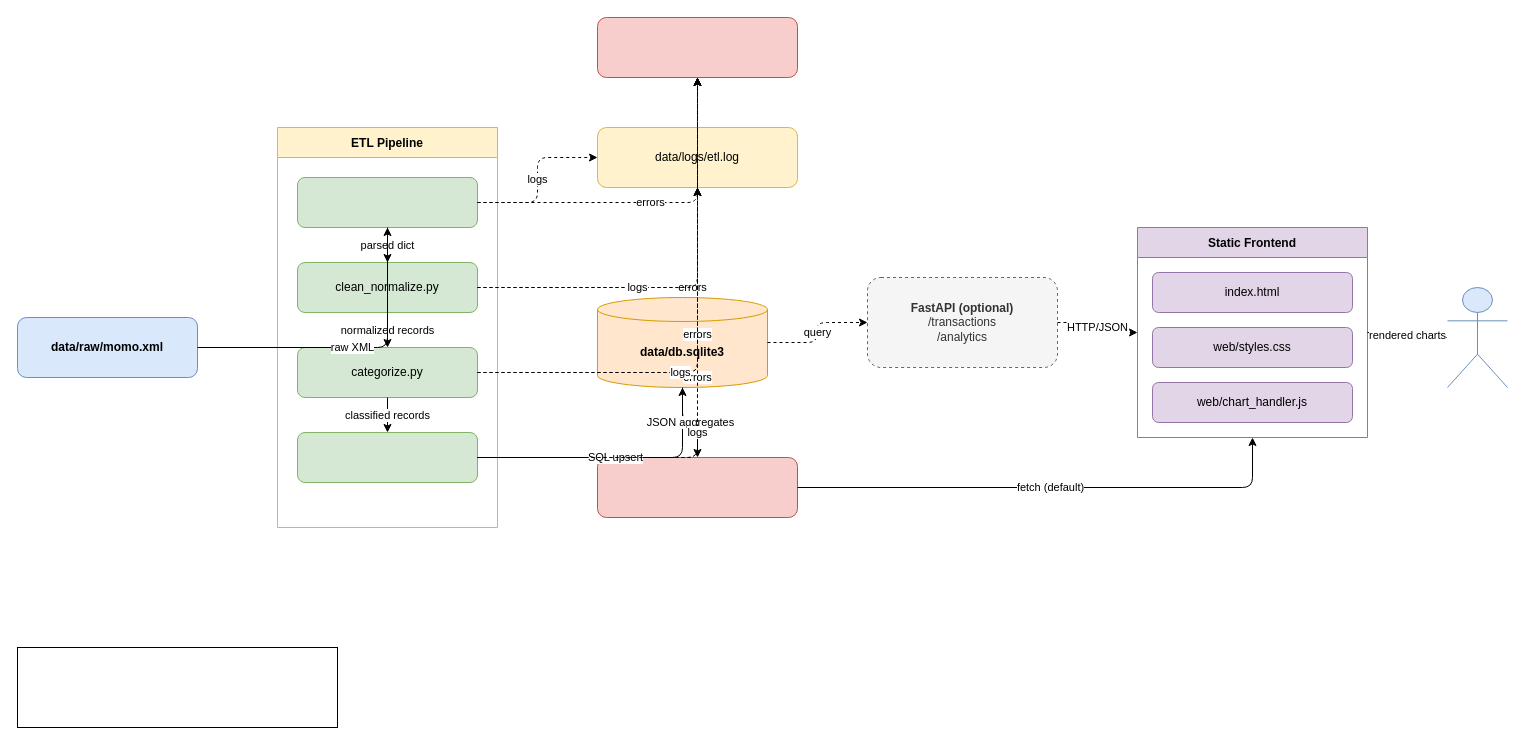
The diagram is 1525 pixels wide and 748 high, and some of its shapes have lost their labels. The shapes that lost their labels are listed below. From the top down, each one's centre as x and y in pixels, then its label:
At pixel 697 47: "data/logs/dead_letter/".
At pixel 387 202: "parse_xml.py".
At pixel 1477 337: "User".
At pixel 387 457: "load_db.py".
At pixel 697 487: "data/processed/dashboard.json".
At pixel 177 687: "Legend → solid arrow = required flow - - → dashed arrow = optional / error / log".
